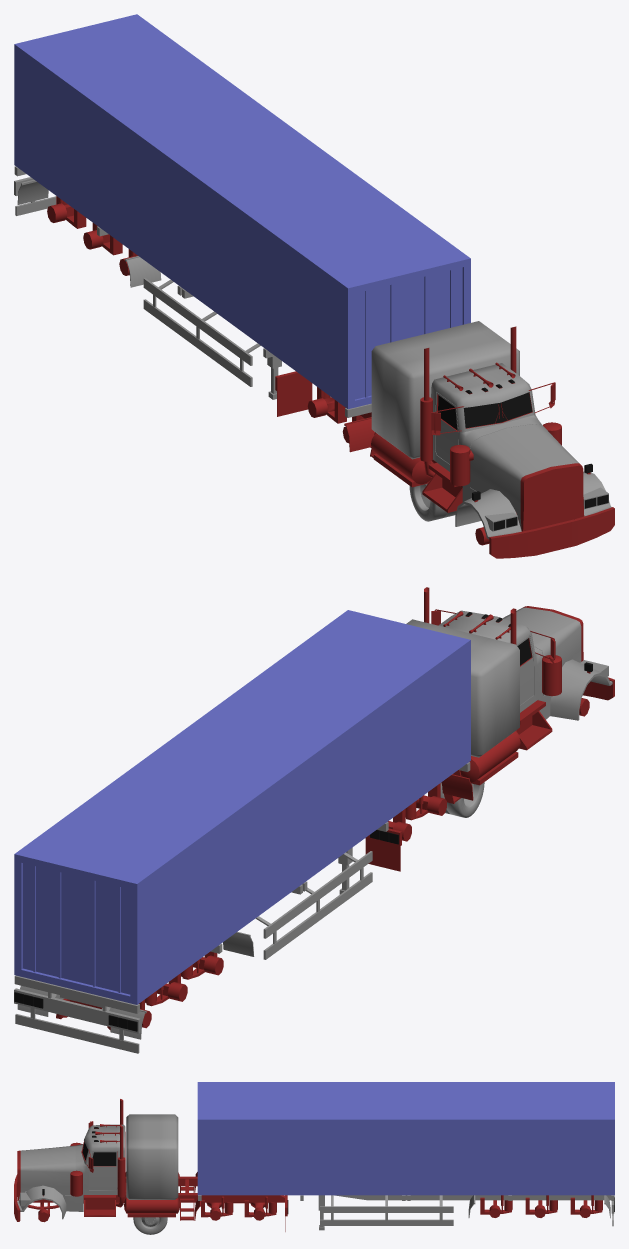
The model's file is F_Truck.FBX.
3 renders of one model, top to bottom at view 1: azimuth 30°, elevation 25°; view 2: azimuth 150°, elevation 25°; view 3: azimuth 270°, elevation 25°, orthographic. The views are drawn at different scales.
Parts seen in each view (by area): view 1: Container, Body_Middle_LOD0, Hood_LOD0, Body_Front_LOD0, Trailer_LOD0, ContainerDoor_Front_Right, Bumper_LOD0, ContainerDoor_Front_Left, Body_Rear_LOD0, ExhaustPipe_Right_LOD0, Mudguard_Right, AirFilrer_Right_LOD0 (+4 smaller); view 2: Container, Trailer_LOD0, Body_Middle_LOD0, ContainerDoor_Rear_Left, ContainerDoor_Rear_Right, Body_Front_LOD0, Hood_LOD0, Suspension_Rear_01_LOD0, Mudguard_Right, Body_Rear_LOD0, AirFilrer_Right_LOD0, Suspension_Trailer_02_LOD0 (+3 smaller); view 3: Container, Body_Middle_LOD0, Trailer_LOD0, Body_Front_LOD0, Hood_LOD0, Body_Rear_LOD0, Door_Left_LOD0, ExhaustPipe_Left_LOD0, Suspension_Rear_02_LOD0, Suspension_Rear_01_LOD0, Suspension_Trailer_03_LOD0, Suspension_Trailer_02_LOD0 (+6 smaller).
Boxes of the visible parts, left/top/right/bottom form: Container: left=14, top=14, right=470, bottom=409; Body_Middle_LOD0: left=371, top=321, right=519, bottom=487; Hood_LOD0: left=470, top=424, right=584, bottom=531; Body_Front_LOD0: left=422, top=362, right=611, bottom=539; Trailer_LOD0: left=14, top=166, right=371, bottom=417; ContainerDoor_Front_Right: left=355, top=280, right=408, bottom=399; Bumper_LOD0: left=489, top=507, right=614, bottom=558; ContainerDoor_Front_Left: left=408, top=267, right=462, bottom=337; Body_Rear_LOD0: left=275, top=371, right=374, bottom=452; ExhaustPipe_Right_LOD0: left=420, top=348, right=434, bottom=477; Mudguard_Right: left=277, top=383, right=312, bottom=416; AirFilrer_Right_LOD0: left=450, top=444, right=470, bottom=486; Container: left=14, top=610, right=470, bottom=1004; Trailer_LOD0: left=14, top=762, right=470, bottom=1053; Body_Middle_LOD0: left=406, top=619, right=520, bottom=785; ContainerDoor_Rear_Left: left=23, top=863, right=77, bottom=981; ContainerDoor_Rear_Right: left=77, top=876, right=130, bottom=994; Body_Front_LOD0: left=438, top=610, right=612, bottom=750; Hood_LOD0: left=503, top=606, right=583, bottom=695; Suspension_Rear_01_LOD0: left=405, top=783, right=446, bottom=820; Mudguard_Right: left=365, top=838, right=400, bottom=871; Body_Rear_LOD0: left=365, top=774, right=473, bottom=846; AirFilrer_Right_LOD0: left=542, top=655, right=561, bottom=696; Suspension_Trailer_02_LOD0: left=145, top=973, right=187, bottom=1006; Container: left=197, top=1082, right=614, bottom=1195; Body_Middle_LOD0: left=124, top=1114, right=179, bottom=1217; Trailer_LOD0: left=198, top=1195, right=614, bottom=1226; Body_Front_LOD0: left=17, top=1124, right=125, bottom=1219; Hood_LOD0: left=17, top=1145, right=75, bottom=1200; Body_Rear_LOD0: left=178, top=1172, right=287, bottom=1220; Door_Left_LOD0: left=89, top=1151, right=117, bottom=1190; ExhaustPipe_Left_LOD0: left=116, top=1125, right=125, bottom=1207; Suspension_Rear_02_LOD0: left=244, top=1196, right=276, bottom=1220; Suspension_Rear_01_LOD0: left=201, top=1196, right=233, bottom=1220; Suspension_Trailer_03_LOD0: left=570, top=1195, right=602, bottom=1217; Suspension_Trailer_02_LOD0: left=525, top=1195, right=557, bottom=1217.
Size of what is drawn, in the model's own units: 2629 by 4293 by 17556.
